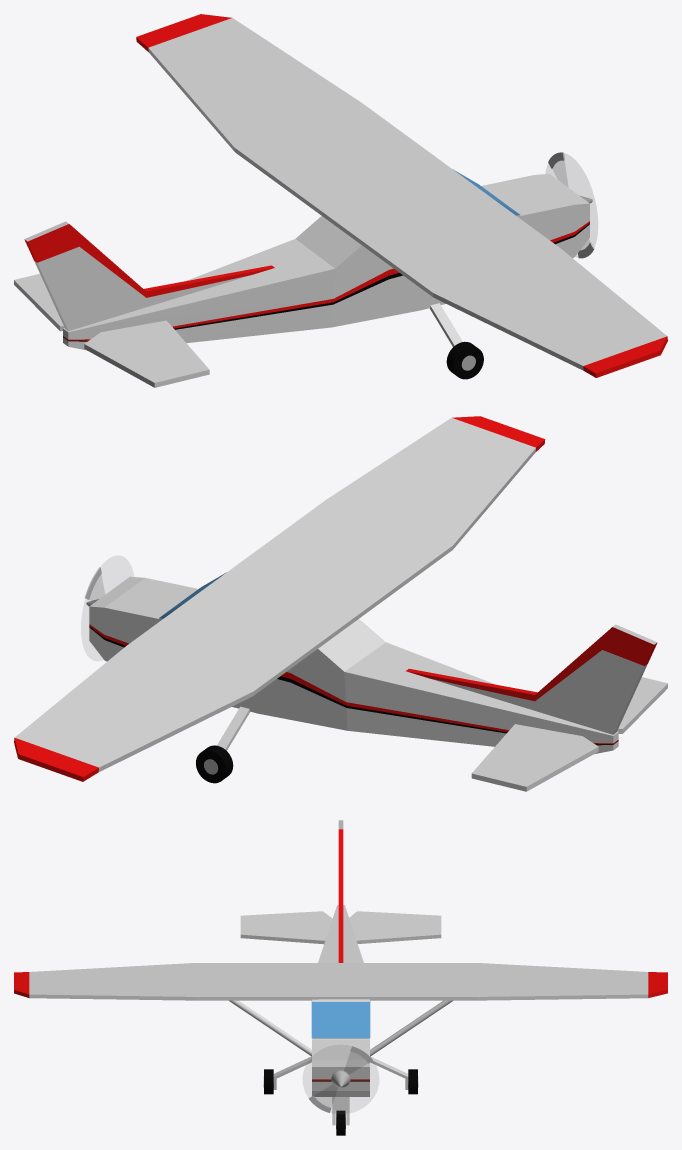
File: cessna-152.dae
3 views of the same model, one above another, from view 1: azimuth 30°, elevation 25°; view 2: azimuth 150°, elevation 25°; view 3: azimuth 270°, elevation 25° (orthographic). The views are drawn at different scales.
Parts seen in each view (by area): view 1: Flugzeug.1; view 2: Flugzeug.1; view 3: Flugzeug.1.
Boxes of the visible parts, x1=… form: Flugzeug.1: x1=14, y1=14, x2=667, y2=387; Flugzeug.1: x1=14, y1=416, x2=667, y2=791; Flugzeug.1: x1=14, y1=820, x2=667, y2=1135.
Size of the model in its own units: 700 by 238 by 985.
